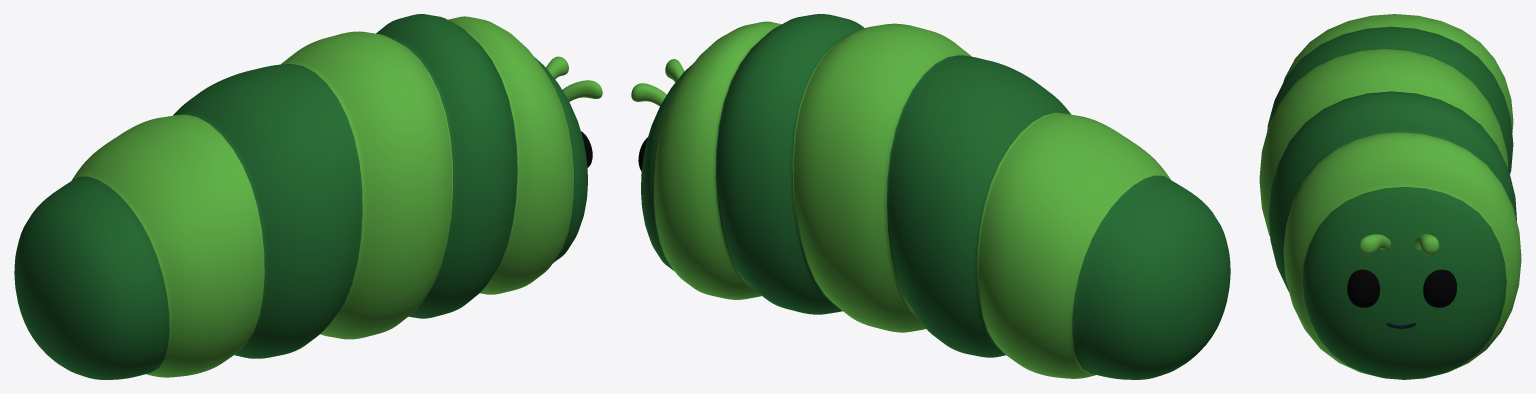
The model's file is worm2.glb.
3 views of the same model, side by side, from view 1: azimuth 30°, elevation 25°; view 2: azimuth 150°, elevation 25°; view 3: azimuth 270°, elevation 25° (orthographic). The views are drawn at different scales.
Parts seen in each view (by area): view 1: Cube; view 2: Cube; view 3: Cube.
Boxes of the visible parts, x1,y1,x2,y2 form: Cube: (14,14,602,379); Cube: (631,14,1230,379); Cube: (1259,14,1521,379).
Size of the model in its own units: 4.47 by 2.14 by 1.95.
